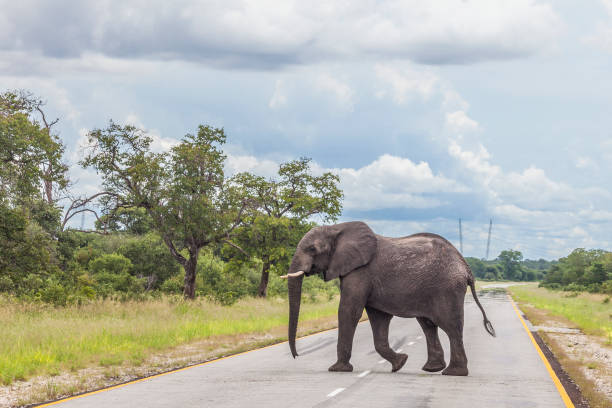africanelephant: (261, 226, 364, 352)
